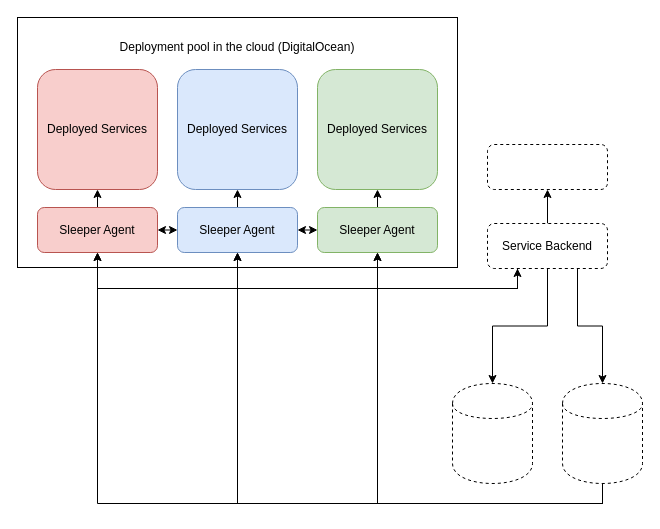
This 660x529 diagram has some shape labels left out. Here are the shapes that lost their labels. From the top down, the centre of each, then its label:
At (547,167): "Management Frontend".
At (492,433): "MongoDB".
At (602,433): "S3 Blobstorage".
